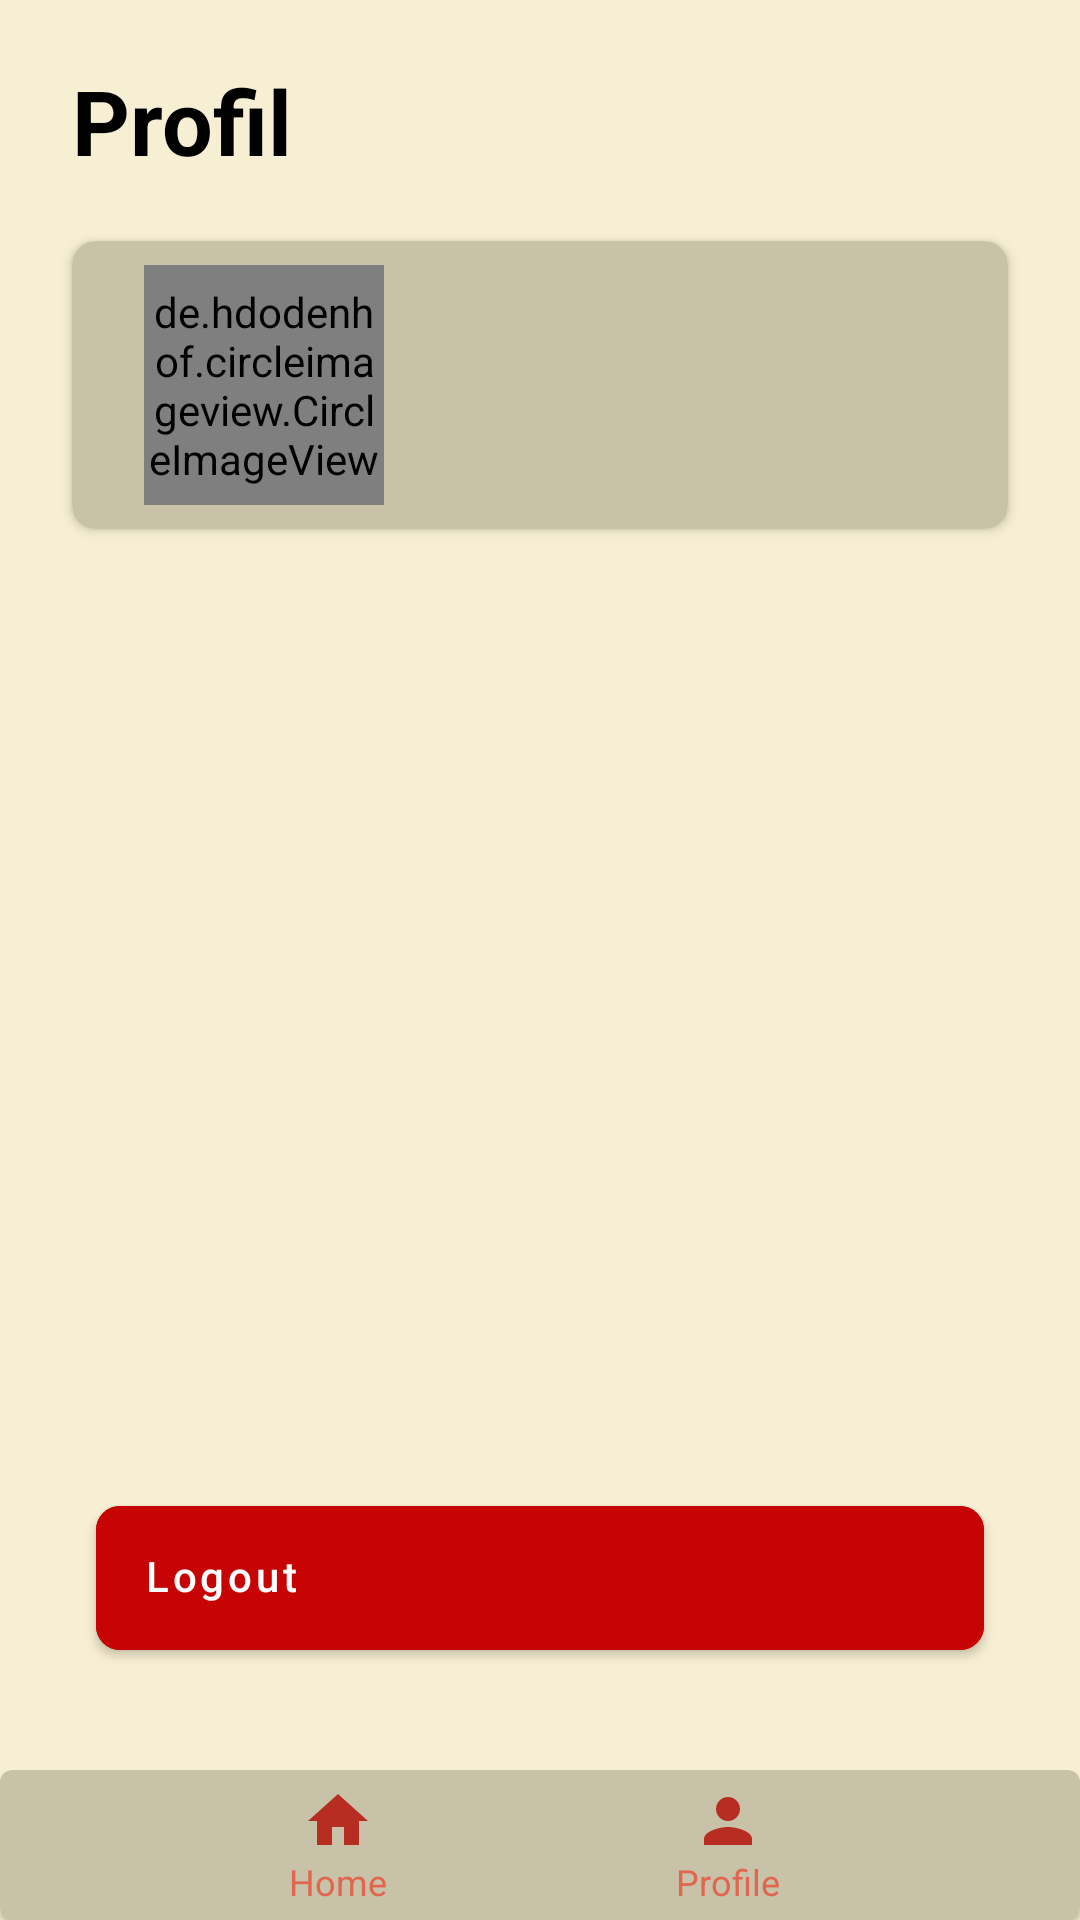

Where to tap for icons on this 1080 x 1920 app screen, as (x,y):
person: (728,1821)
